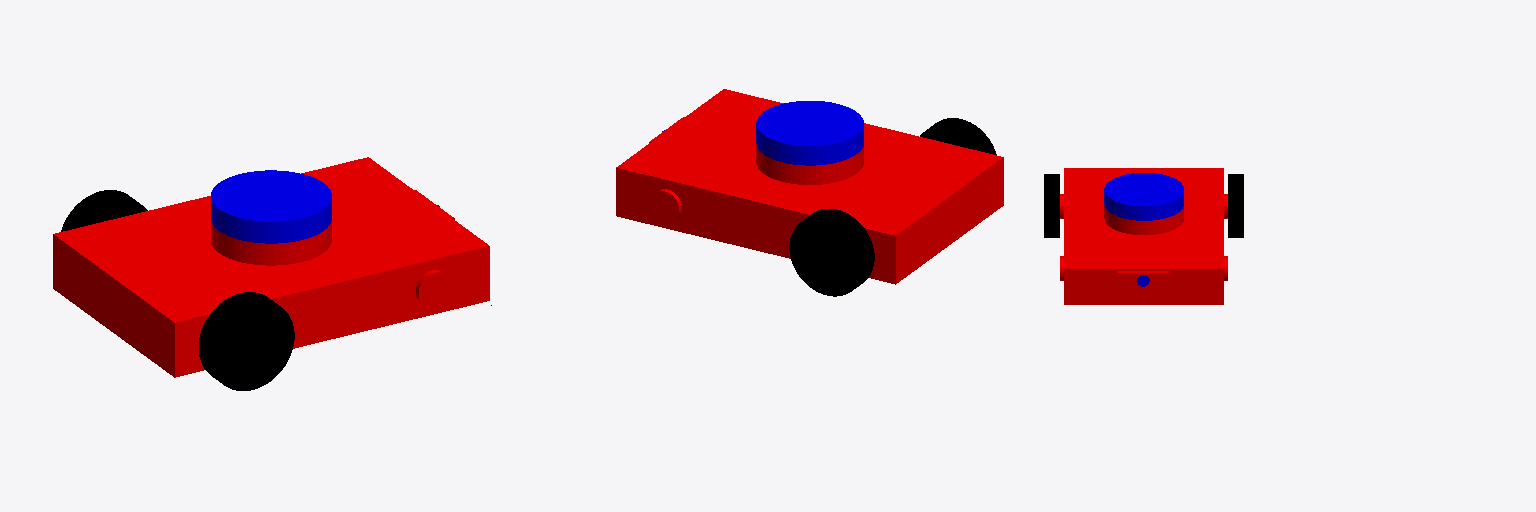
URDF robot description (robot_fourW):
<?xml version='1.0' encoding='utf-8'?>
<robot name="robot_fourW">
    <link name="brw">
        <inertial>
            <origin xyz="-3.8343381447702995e-09 -4.798902324409937e-09 0.10000000194436343" rpy="0.0 -0.0 0.0" />
            <mass value="1" />
            <inertia ixx="34.19728323184722" iyy="34.19728323189048" izz="63.13344596655185" ixy="-1.7337242752546445e-12" iyz="1.5276668818842154e-12" ixz="1.0942358130705543e-12" />
        </inertial>
        <visual name="brw_visual">
            <origin xyz="1.008396071793393 -0.4648275573294051 -1.3260599966876803" rpy="-1.5707963267948963 -4.91273688396632e-15 1.873501354054936e-16" />
            <geometry>
                <mesh filename="meshes/brw.stl" scale="0.001 0.001 0.001" />
            </geometry>
            <material name="Black"> <color rgba="0.0 0.0 0.0 1.0"/></material>
        </visual>
        <collision name="brw_collision">
            <origin xyz="1.008396071793393 -0.4648275573294051 -1.3260599966876803" rpy="-1.5707963267948963 -4.91273688396632e-15 1.873501354054936e-16" />
            <geometry>
                <mesh filename="meshes/brw.stl" scale="0.001 0.001 0.001" />
            </geometry>
        </collision>
    </link>
    <link name="base_link">
        <inertial>
            <origin xyz="-1.353698598503849 -0.07231040440728938 0.4831170589118242" rpy="0.0 0.0 0.0" />
            <mass value="5" />
            <inertia ixx="8692.521269052417" iyy="18593.069135791302" izz="26006.184467637227" ixy="0.9622031836888207" iyz="0.06667300271711478" ixz="-6.4560191517398975" />
        </inertial>
        <visual name="base_link_visual">
            <origin xyz="0.0 0.0 0.0" rpy="0.0 0.0 0.0" />
            <geometry>
                <mesh filename="meshes/base_link.stl" scale="0.001 0.001 0.001" />
            </geometry>
            <material name="Red"> <color rgba="1.0 0.0 0.0 1.0"/></material>
        </visual>
        <collision name="base_link_collision">
            <origin xyz="0.0 0.0 0.0" rpy="0.0 0.0 0.0" />
            <geometry>
                <mesh filename="meshes/base_link.stl" scale="0.001 0.001 0.001" />
            </geometry>
        </collision>
    </link>
    <link name="lidar">
        <inertial>
            <origin xyz="1.2563089057948674e-09 3.1544848866360555e-09 0.0999999999079445" rpy="0.0 -0.0 0.0" />
            <mass value="0.5" />
            <inertia ixx="81.17744517179653" iyy="81.17744517185247" izz="154.1343895667851" ixy="-1.3642420526593924e-12" iyz="-2.0463630789890885e-12" ixz="-1.5916157281026244e-12" />
        </inertial>
        <visual name="lidar_visual">
            <origin xyz="1.3596570717933776 0.07228508414369614 -0.9155824778108631" rpy="-2.98372437868009e-16 -1.873501354054936e-16 -4.91273688396632e-15" />
            <geometry>
                <mesh filename="meshes/lidar.stl" scale="0.001 0.001 0.001" />
            </geometry>
            <material name="Blue"> <color rgba="0.0 0.0 1.0 1.0"/></material>
        </visual>
        <collision name="lidar_collision">
            <origin xyz="1.3596570717933776 0.07228508414369614 -0.9155824778108631" rpy="-2.98372437868009e-16 -1.873501354054936e-16 -4.91273688396632e-15" />
            <geometry>
                <mesh filename="meshes/lidar.stl" scale="0.001 0.001 0.001" />
            </geometry>
        </collision>
    </link>
    <link name="flw">
        <inertial>
            <origin xyz="-3.834348945019883e-09 4.798900405944551e-09 0.09999999805563903" rpy="0.0 -0.0 0.0" />
            <mass value="1" />
            <inertia ixx="34.1972832318379" iyy="34.19728323189156" izz="63.13344596654861" ixy="1.9326762412674725e-12" iyz="1.9326762412674725e-12" ixz="-9.094947017729282e-13" />
        </inertial>
        <visual name="flw_visual">
            <origin xyz="0.912643425060391 0.6190515632385829 -1.4873192080396729" rpy="1.5707963267948968 4.91273688396632e-15 -1.873501354054936e-16" />
            <geometry>
                <mesh filename="meshes/flw.stl" scale="0.001 0.001 0.001" />
            </geometry>
            <material name="Black"> <color rgba="0.0 0.0 0.0 1.0"/></material>
        </visual>
        <collision name="flw_collision">
            <origin xyz="0.912643425060391 0.6190515632385829 -1.4873192080396729" rpy="1.5707963267948968 4.91273688396632e-15 -1.873501354054936e-16" />
            <geometry>
                <mesh filename="meshes/flw.stl" scale="0.001 0.001 0.001" />
            </geometry>
        </collision>
    </link>
    <link name="frw">
        <inertial>
            <origin xyz="-3.834305744021549e-09 -4.7989019691385695e-09 0.10000000194436882" rpy="0.0 -0.0 0.0" />
            <mass value="1" />
            <inertia ixx="34.19728323141587" iyy="34.197283231904294" izz="63.1334459665386" ixy="-1.7621459846850485e-11" iyz="1.6434853478131117e-11" ixz="1.617195266589988e-11" />
        </inertial>
        <visual name="frw_visual">
            <origin xyz="-0.6873565749395758 -0.6190515632385847 -5.712680791960349" rpy="-1.5707963267948963 -4.91273688396632e-15 1.873501354054936e-16" />
            <geometry>
                <mesh filename="meshes/frw.stl" scale="0.001 0.001 0.001" />
            </geometry>
            <material name="Black"> <color rgba="0.0 0.0 0.0 1.0"/></material>
        </visual>
        <collision name="frw_collision">
            <origin xyz="-0.6873565749395758 -0.6190515632385847 -5.712680791960349" rpy="-1.5707963267948963 -4.91273688396632e-15 1.873501354054936e-16" />
            <geometry>
                <mesh filename="meshes/frw.stl" scale="0.001 0.001 0.001" />
            </geometry>
        </collision>
    </link>
    <link name="blw">
        <inertial>
            <origin xyz="-3.834327344520716e-09 4.7989005480530975e-09 0.09999999805565722" rpy="0.0 -0.0 0.0" />
            <mass value="1" />
            <inertia ixx="34.19728323186973" iyy="34.19728323196341" izz="63.133445966618694" ixy="3.780087354243733e-12" iyz="2.9558577807620168e-12" ixz="-3.183231456205249e-12" />
        </inertial>
        <visual name="blw_visual">
            <origin xyz="2.5626434250603904 0.6190515632385832 -0.03731920803967313" rpy="1.5707963267948968 4.91273688396632e-15 -1.873501354054936e-16" />
            <geometry>
                <mesh filename="meshes/blw.stl" scale="0.001 0.001 0.001" />
            </geometry>
            <material name="Black"> <color rgba="0.0 0.0 0.0 1.0"/></material>
        </visual>
        <collision name="blw_collision">
            <origin xyz="2.5626434250603904 0.6190515632385832 -0.03731920803967313" rpy="1.5707963267948968 4.91273688396632e-15 -1.873501354054936e-16" />
            <geometry>
                <mesh filename="meshes/blw.stl" scale="0.001 0.001 0.001" />
            </geometry>
        </collision>
    </link>
    <link name="camera">
        <inertial>
            <origin xyz="1.6458219675996589e-09 -5.667908453688142e-10 0.015000001843940253" rpy="0.0 -0.0 0.0" />
            <mass value="0.2" />
            <inertia ixx="0.007183942979018809" iyy="0.007183942979011704" izz="0.013692703347185642" ixy="-3.5419573509136786e-34" iyz="3.552713678800501e-15" ixz="-2.6645352591003757e-15" />
        </inertial>
        <visual name="camera_visual">
            <origin xyz="-0.5861970373707414 -0.08539349414369667 -0.1822674953354516" rpy="-3.141592653589793 -1.5707963267948917 0" />
            <geometry>
                <mesh filename="meshes/camera.stl" scale="0.001 0.001 0.001" />
            </geometry>
            <material name="Blue"> <color rgba="0.0 0.0 1.0 1.0"/></material>
        </visual>
        <collision name="camera_collision">
            <origin xyz="-0.5861970373707414 -0.08539349414369667 -0.1822674953354516" rpy="-3.141592653589793 -1.5707963267948917 0" />
            <geometry>
                <mesh filename="meshes/camera.stl" scale="0.001 0.001 0.001" />
            </geometry>
        </collision>
    </link>
    <joint name="base_link_joint_frw" type="continuous">
        <origin xyz="-0.4083960717933755 -1.1222850641436977 0.4653274178108625" rpy="1.570796326794897 1.8735013540549048e-16 4.912736883966281e-15" />
        <parent link="base_link" />
        <child link="frw" />
        <axis xyz="-4.791376291715144e-32 -0.0 1.0" />
    </joint>
    <joint name="base_link_joint_brw" type="continuous">
        <origin xyz="-2.2583960717933897 -1.1222850641437068 0.4653274178108629" rpy="1.570796326794897 1.8735013540549048e-16 4.912736883966281e-15" />
        <parent link="base_link" />
        <child link="brw" />
        <axis xyz="-4.791376291715144e-32 -0.0 1.0" />
    </joint>
    <joint name="base_link_joint_flw" type="continuous">
        <origin xyz="-0.4083960717933846 0.9777149358563016 0.4653274178108632" rpy="-1.5707963267948963 1.8735013540549048e-16 4.912736883966281e-15" />
        <parent link="base_link" />
        <child link="flw" />
        <axis xyz="4.791376291715144e-32 0.0 1.0" />
    </joint>
    <joint name="base_link_joint_blw" type="continuous">
        <origin xyz="-2.2583960717933986 0.9777149358562927 0.4653274178108635" rpy="-1.5707963267948963 1.8735013540549048e-16 4.912736883966281e-15" />
        <parent link="base_link" />
        <child link="blw" />
        <axis xyz="4.791376291715144e-32 0.0 1.0" />
    </joint>
    <joint name="base_link_joint_lidar" type="continuous">
        <origin xyz="-1.359657071793387 -0.07228508414370254 0.9155824778108627" rpy="2.9837243786801003e-16 1.8735013540549048e-16 4.912736883966281e-15" />
        <parent link="base_link" />
        <child link="lidar" />
        <axis xyz="0.0 4.930380657631324e-32 1.0" />
    </joint>
    <joint name="base_link_joint_cam" type="fixed">
        <origin xyz="0.19339463820662559 -0.08539349414369497 0.5885762978108627" rpy="-3.1415926535897882 -1.5707963267948957 0" />
        <parent link="base_link" />
        <child link="camera" />
    </joint>
</robot>


--- Render facts (derived) ---
Views: 3 orthographic renders of the robot side by side, from view 1: azimuth 30°, elevation 25°; view 2: azimuth 150°, elevation 25°; view 3: azimuth 270°, elevation 25°.
Robot: robot_fourW — 7 links, 6 joints (5 continuous, 1 fixed); root link base_link; default pose: every joint at zero.
Links seen in each view (by area): view 1: base_link, lidar, brw, blw; view 2: base_link, lidar, blw, brw; view 3: base_link, lidar, brw, blw.
Boxes of the visible links, x1,y1,x2,y2 form: base_link: [53, 157, 489, 377]; lidar: [211, 170, 331, 243]; brw: [199, 292, 294, 390]; blw: [61, 190, 147, 231]; base_link: [616, 89, 1003, 284]; lidar: [756, 101, 863, 165]; blw: [789, 209, 874, 296]; brw: [920, 118, 996, 154]; base_link: [1060, 168, 1227, 304]; lidar: [1104, 173, 1183, 220]; brw: [1044, 174, 1059, 237]; blw: [1228, 174, 1243, 237].
Bounding box of the posed robot: 3.36 × 5.9 × 1.27 m (x, y, z).
Meshes: 7 distinct files referenced, 7 mesh visuals loaded (7 binary STL).